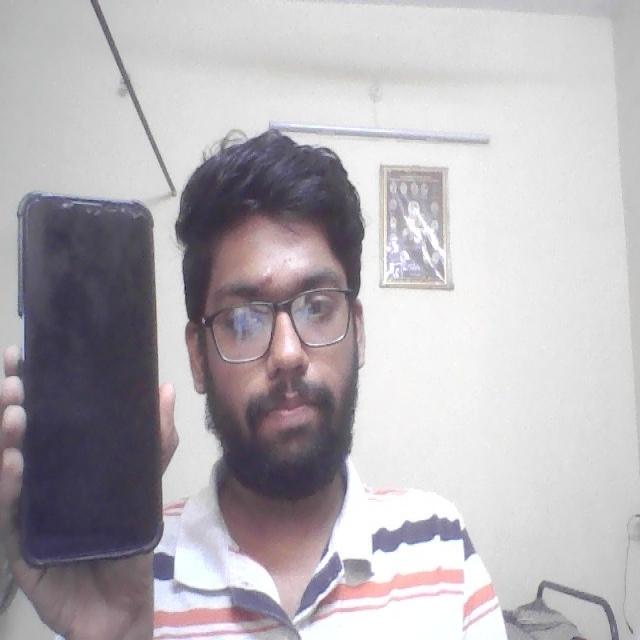Mobile: (20, 188, 169, 556)
